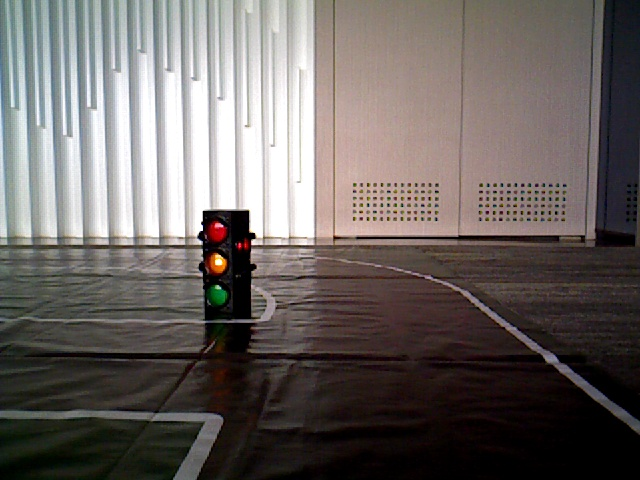yellow: (201, 214, 236, 313)
